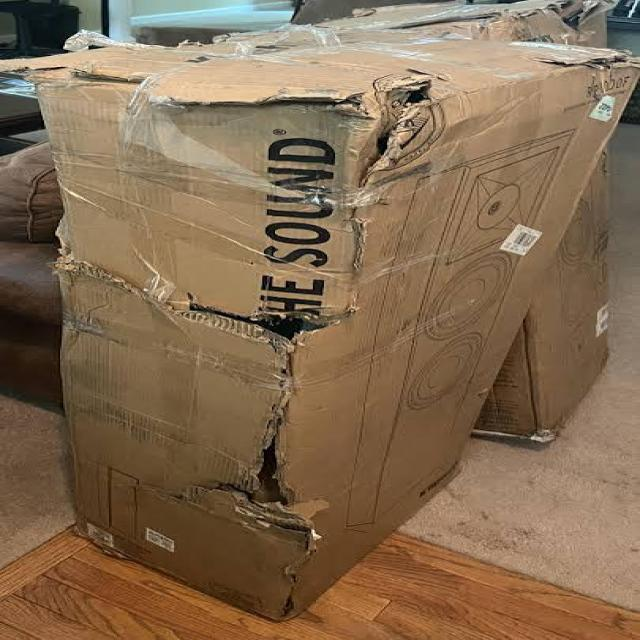carton_box: (8, 3, 640, 640)
package_damage: (34, 34, 461, 628), (494, 23, 640, 119)
